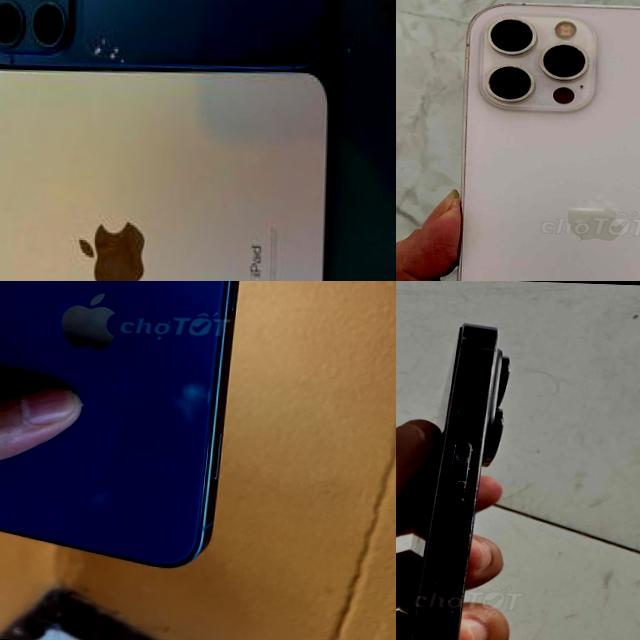gen_12_13: (0, 281, 257, 576), (448, 0, 640, 281)
gen_14: (396, 310, 537, 640)
gen_17: (0, 0, 343, 88)
